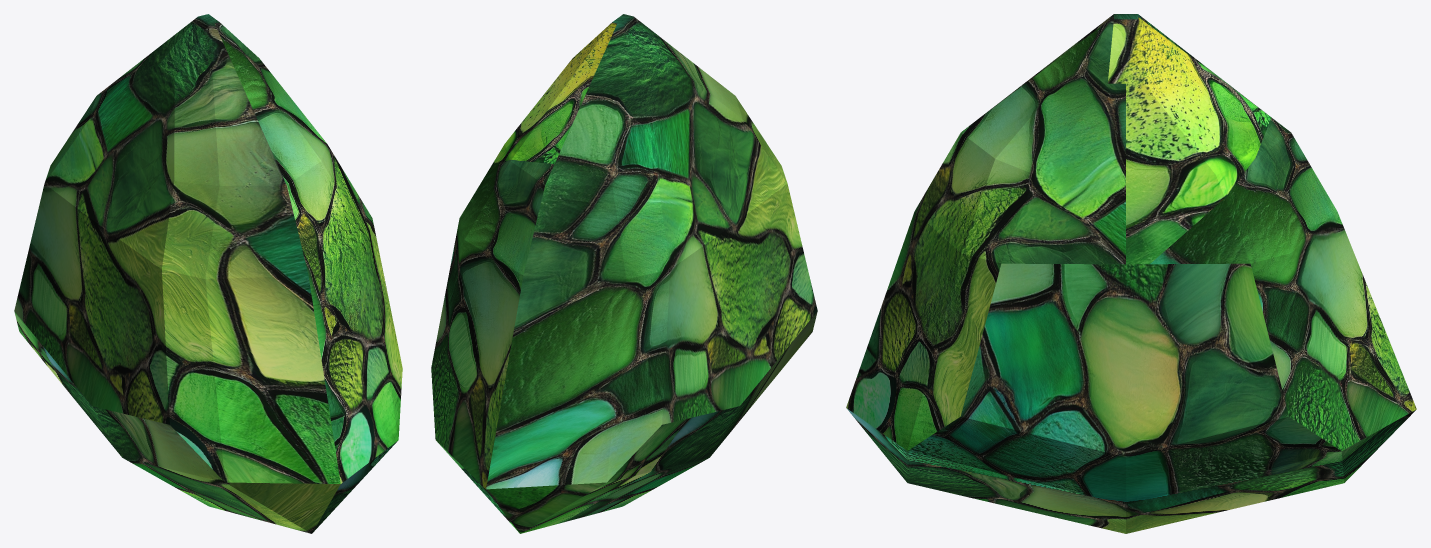
File: gemstone5Green.glb
3 renders of one model, left to right at view 1: azimuth 30°, elevation 25°; view 2: azimuth 150°, elevation 25°; view 3: azimuth 270°, elevation 25°, orthographic. The views are drawn at different scales.
Parts seen in each view (by area): view 1: gemstone4; view 2: gemstone4; view 3: gemstone4.
Boxes of the visible parts, bbox=[...] form: gemstone4: bbox=[14, 14, 402, 533]; gemstone4: bbox=[431, 14, 817, 533]; gemstone4: bbox=[846, 14, 1416, 533].
Size of the model in its own units: 0.5 by 1 by 1.
Materials: 1 (1 with a texture image).
